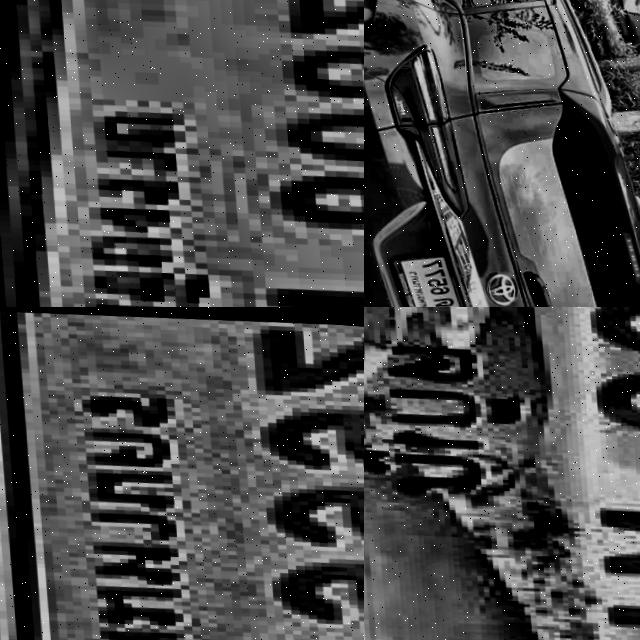license-plate: (0, 307, 364, 640), (0, 0, 364, 307), (364, 307, 640, 640), (379, 238, 470, 307)
